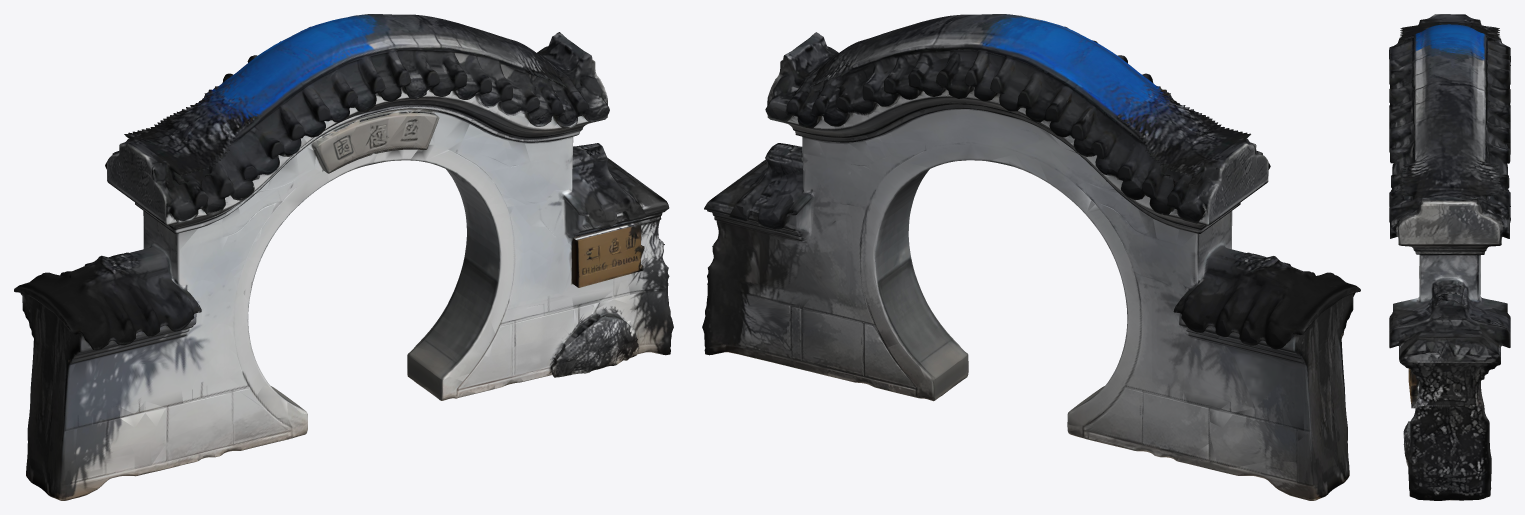
The model's file is MoonGate.fbx.
3 views of the same model, side by side, from view 1: azimuth 30°, elevation 25°; view 2: azimuth 150°, elevation 25°; view 3: azimuth 270°, elevation 25° (orthographic). The views are drawn at different scales.
Visible parts, largest first — view 1: tripo_node_6980ac84; view 2: tripo_node_6980ac84; view 3: tripo_node_6980ac84.
Boxes of the visible parts, x1,y1,x2,y2 form: tripo_node_6980ac84: (14, 14, 673, 500); tripo_node_6980ac84: (702, 14, 1360, 500); tripo_node_6980ac84: (1389, 14, 1510, 500).
Size of the model in its own units: 98.07 by 19.53 by 59.39.
1 material, 1 textured.
